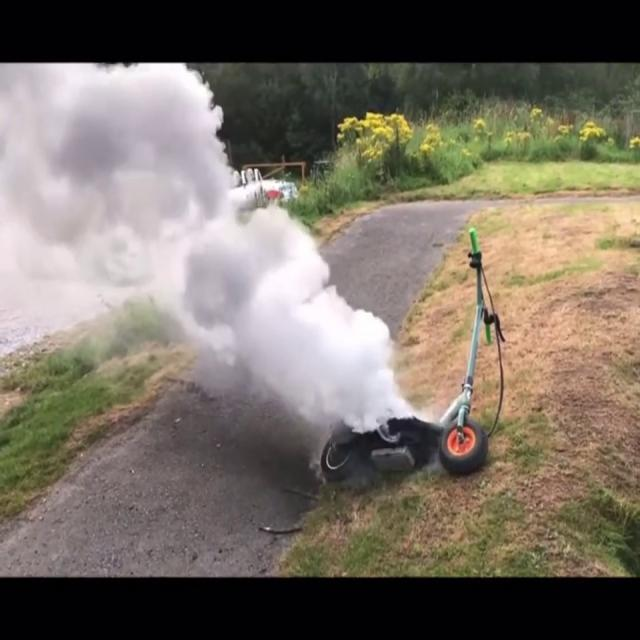Smoke: (0, 196, 412, 420), (0, 65, 259, 360)
